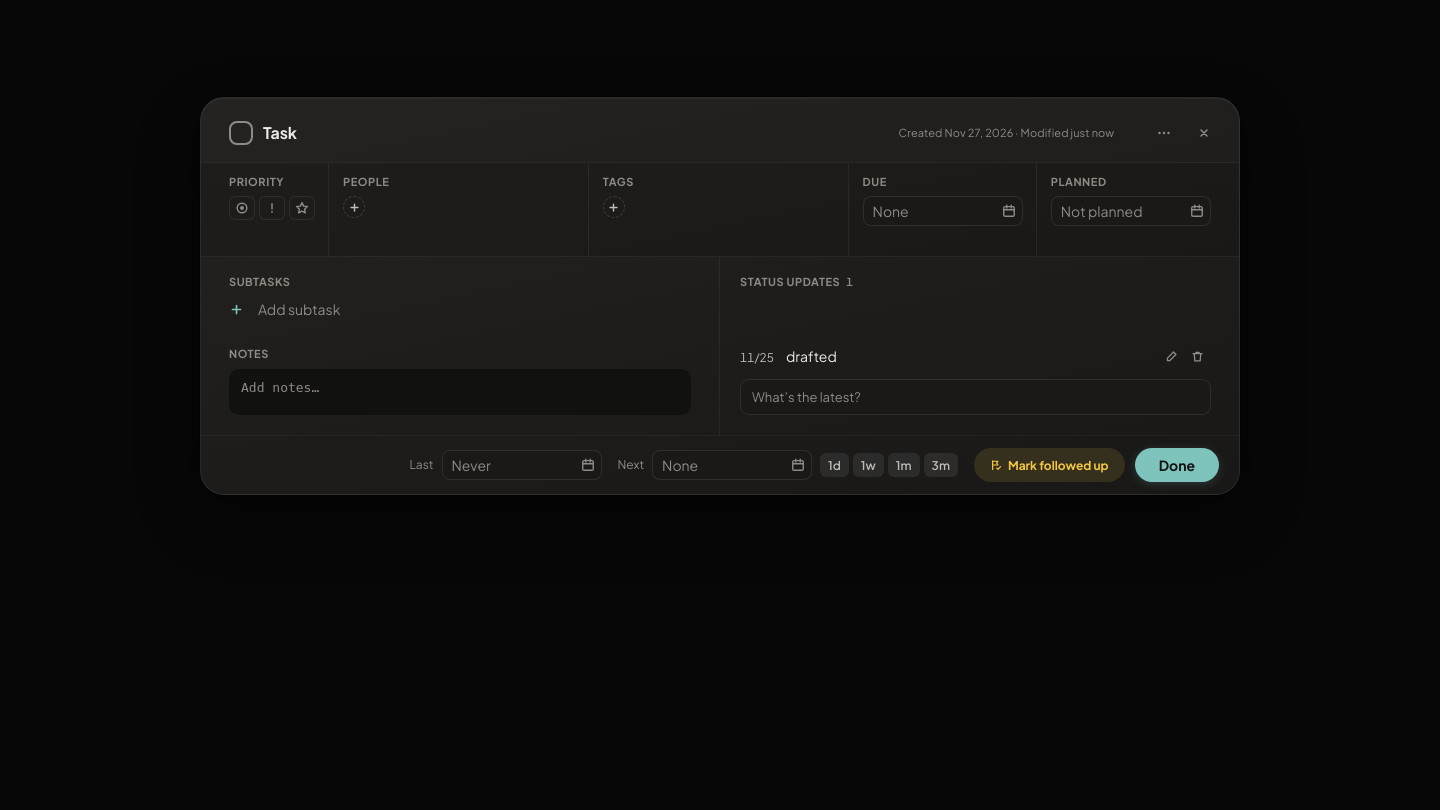
Test: TaskEditPopup — Status updates (edit mode) › a day after today is refused when editing an entry
Click the button named "Edit status update": (1171, 356) 1159,344 -> 1183,368
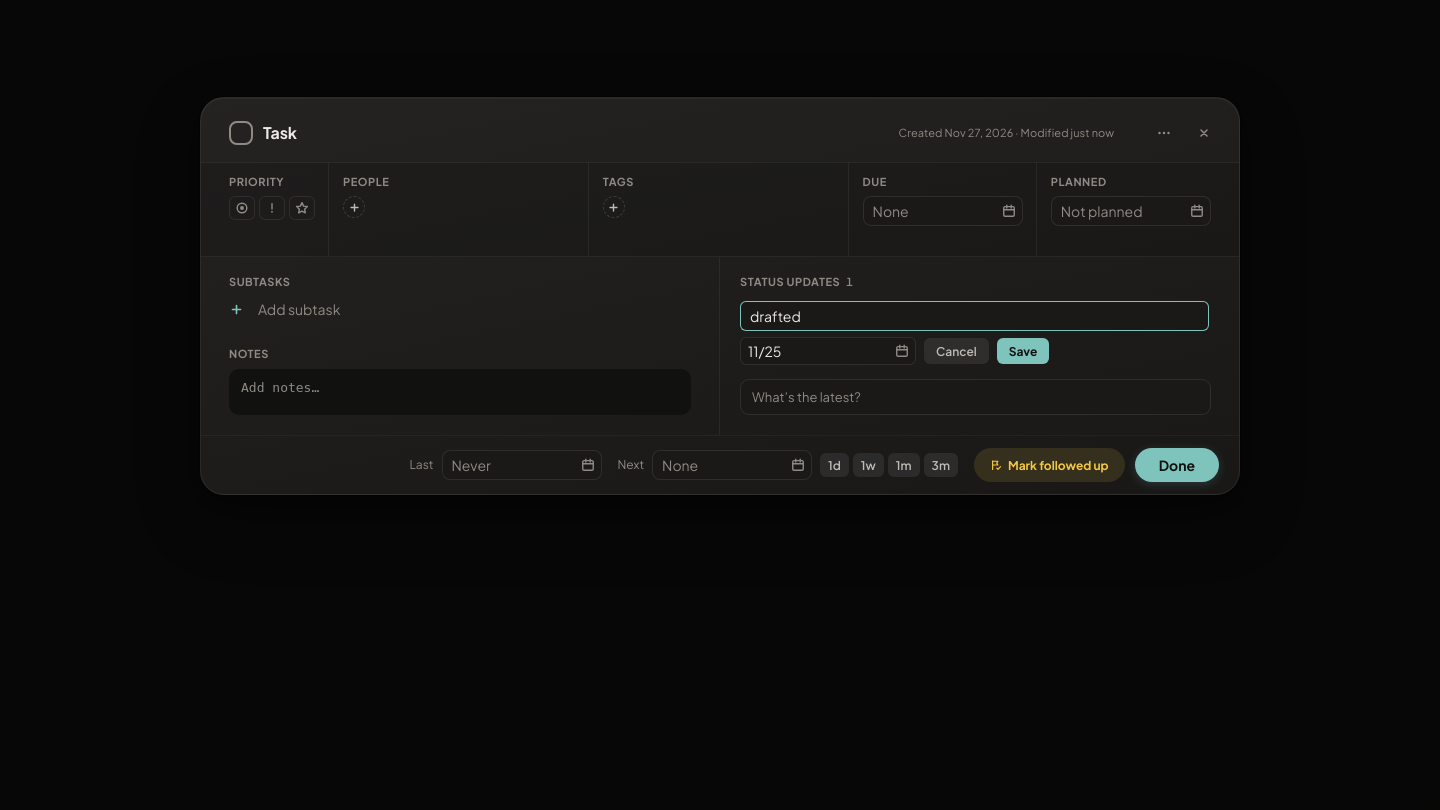
Replace the text in the field named "Status update’s day" with "tomorrow": (817, 351) 748,342 -> 886,360
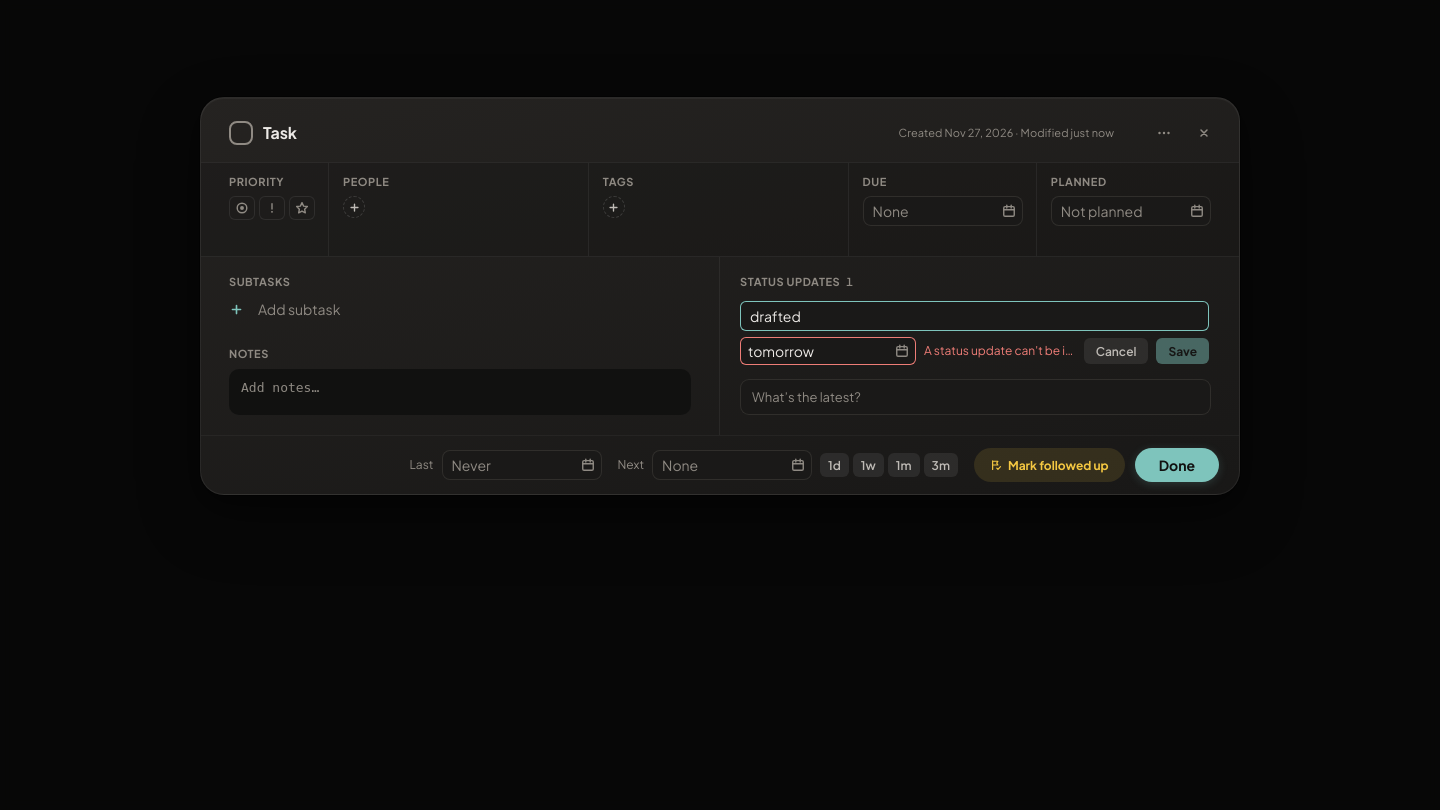
Result: the button "Save" is disabled at 1156,338 -> 1209,364
